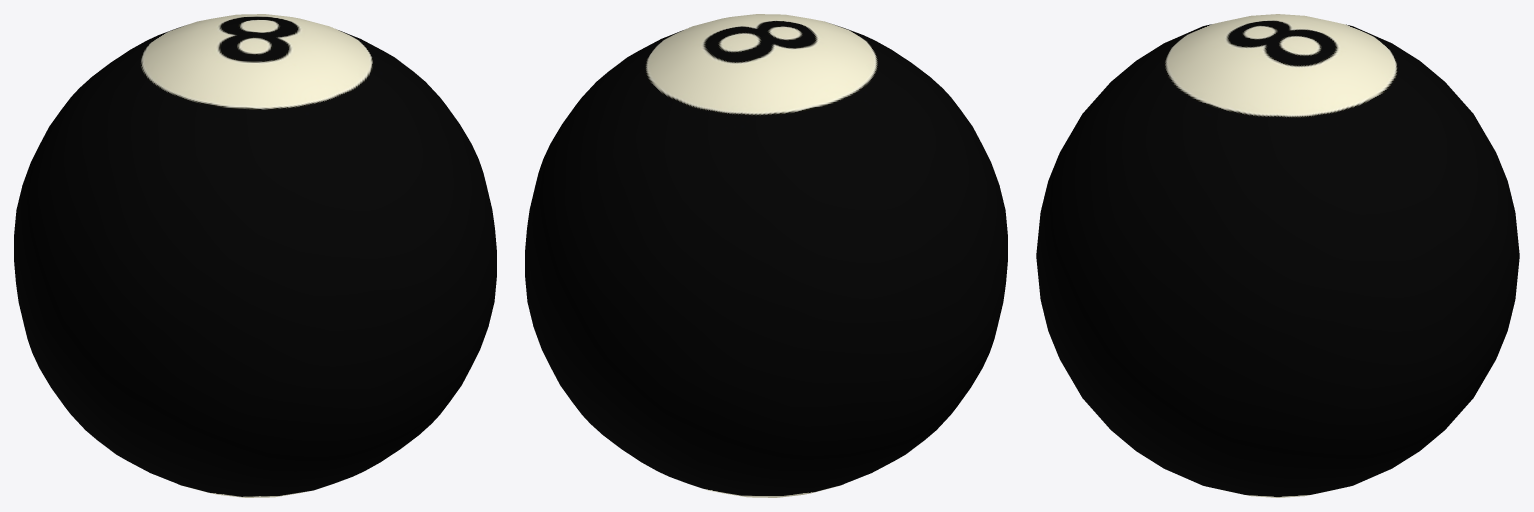
Rendered from ball_black.fbx.
3 views of the same model, side by side, from view 1: azimuth 30°, elevation 25°; view 2: azimuth 150°, elevation 25°; view 3: azimuth 270°, elevation 25° (orthographic).
Visible parts, largest first — view 1: ball_black; view 2: ball_black; view 3: ball_black.
Part boxes in pixels (bbox=[...]): ball_black: bbox=[14, 14, 496, 497]; ball_black: bbox=[525, 14, 1007, 497]; ball_black: bbox=[1036, 14, 1519, 497].
Size of the model in its own units: 9.1 by 9.16 by 9.11.
Materials: 1 (1 with a texture image).
